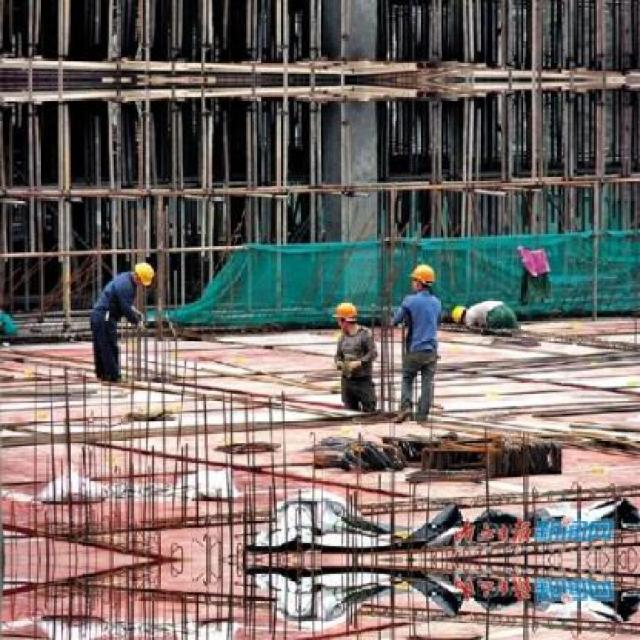helmet: (406, 262, 434, 292), (333, 300, 359, 331), (130, 261, 153, 287), (449, 303, 471, 325)
